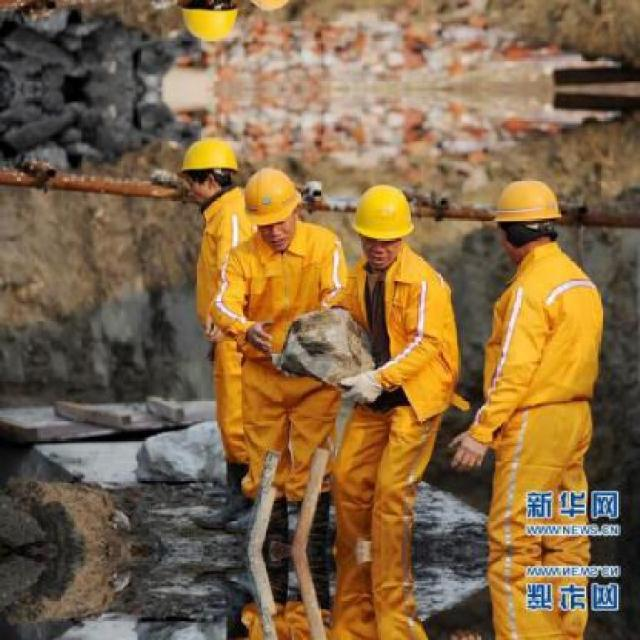helmet: (347, 178, 419, 268), (489, 172, 566, 250), (170, 129, 244, 206), (242, 161, 306, 248), (171, 0, 246, 48)
